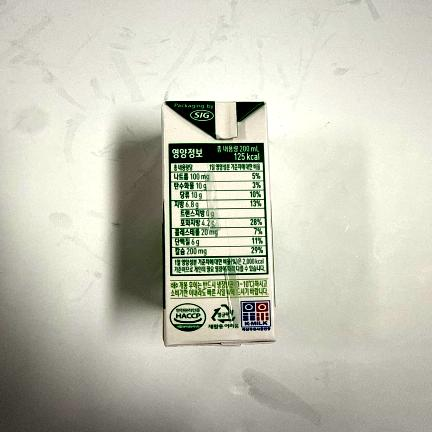milk_green: (165, 101, 276, 346)
